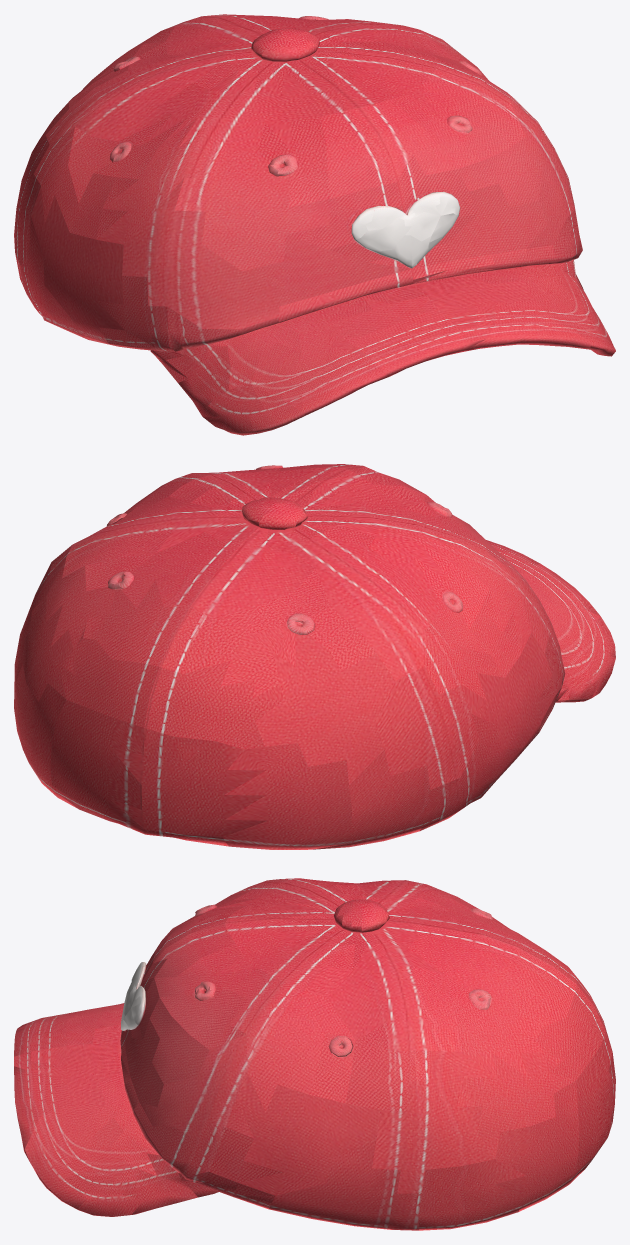
The model's file is cap_pink_fitted.glb.
3 views of the same model, one above another, from view 1: azimuth 30°, elevation 25°; view 2: azimuth 150°, elevation 25°; view 3: azimuth 270°, elevation 25° (orthographic). The views are drawn at different scales.
Size of the model in its own units: 0.5728 by 0.2946 by 0.6861.
Materials: 1 (1 with a texture image).
